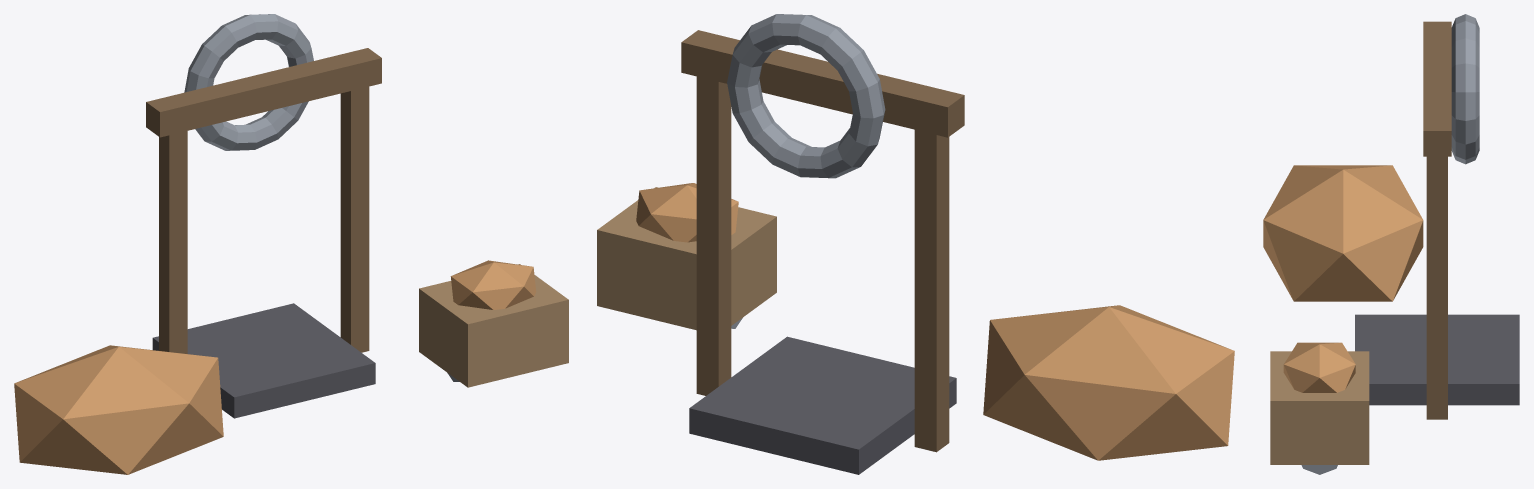
The model's file is iron_mine.glb.
3 renders of one model, left to right at view 1: azimuth 30°, elevation 25°; view 2: azimuth 150°, elevation 25°; view 3: azimuth 270°, elevation 25°, orthographic. The views are drawn at different scales.
Parts seen in each view (by area): view 1: IronMineSpoil, IronMineShaft, IronMineCart, IronMineTop, IronMineLegR, IronMineWheel, IronMineLegL, IronMineCartOre; view 2: IronMineSpoil, IronMineShaft, IronMineCart, IronMineWheel, IronMineLegL, IronMineLegR, IronMineTop, IronMineCartOre; view 3: IronMineSpoil, IronMineShaft, IronMineCart, IronMineLegR, IronMineWheel, IronMineTop, IronMineCartOre.
Boxes of the visible parts, box(x1,y1,x2,y2) form: IronMineSpoil: box(14, 345, 223, 474); IronMineShaft: box(152, 303, 375, 418); IronMineCart: box(419, 264, 568, 387); IronMineTop: box(146, 48, 381, 137); IronMineLegR: box(340, 86, 369, 352); IronMineWheel: box(184, 14, 313, 150); IronMineLegL: box(159, 131, 187, 353); IronMineCartOre: box(450, 260, 536, 309); IronMineSpoil: box(983, 305, 1234, 460); IronMineShaft: box(689, 336, 956, 474); IronMineCart: box(597, 187, 776, 330); IronMineWheel: box(727, 14, 885, 178); IronMineLegL: box(914, 130, 949, 452); IronMineLegR: box(696, 76, 731, 395); IronMineTop: box(681, 30, 964, 137); IronMineCartOre: box(636, 183, 738, 242); IronMineSpoil: box(1263, 165, 1423, 301); IronMineShaft: box(1355, 314, 1519, 405); IronMineCart: box(1270, 351, 1369, 464); IronMineLegR: box(1426, 156, 1447, 419); IronMineWheel: box(1451, 14, 1479, 164); IronMineTop: box(1423, 21, 1451, 156); IronMineCartOre: box(1283, 342, 1355, 392).
Bounding box in the file's own units: 2.54 × 1.74 × 1.09.
